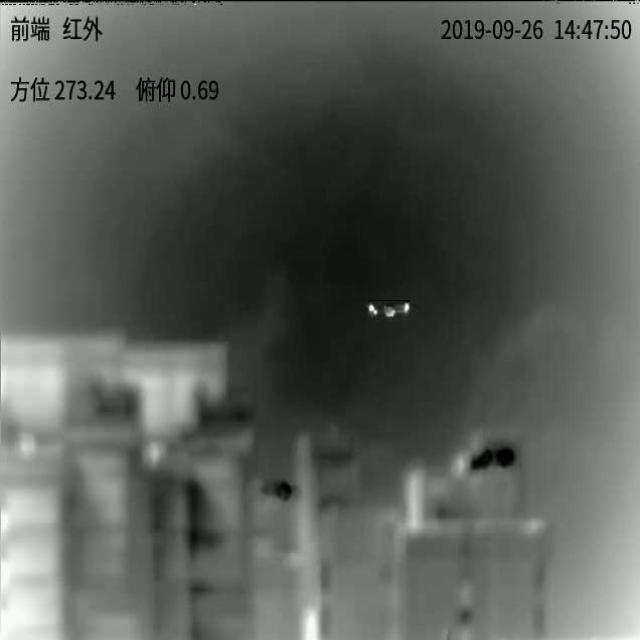drone: (368, 301, 410, 317)
